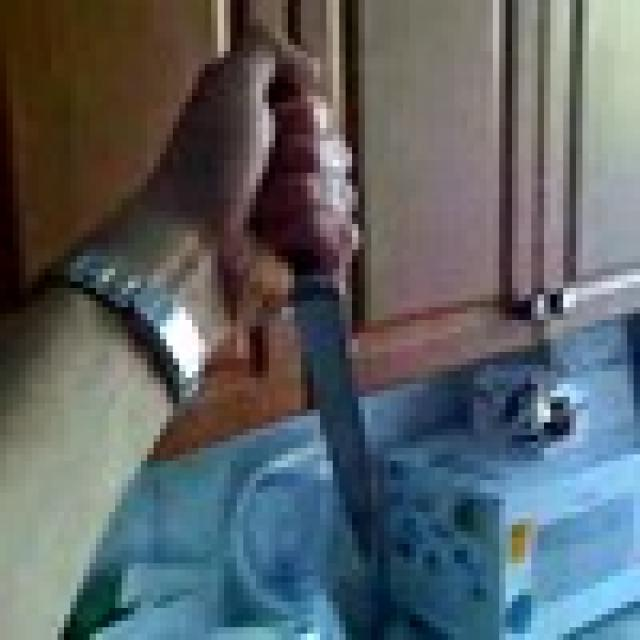Knife: (250, 51, 378, 557)
